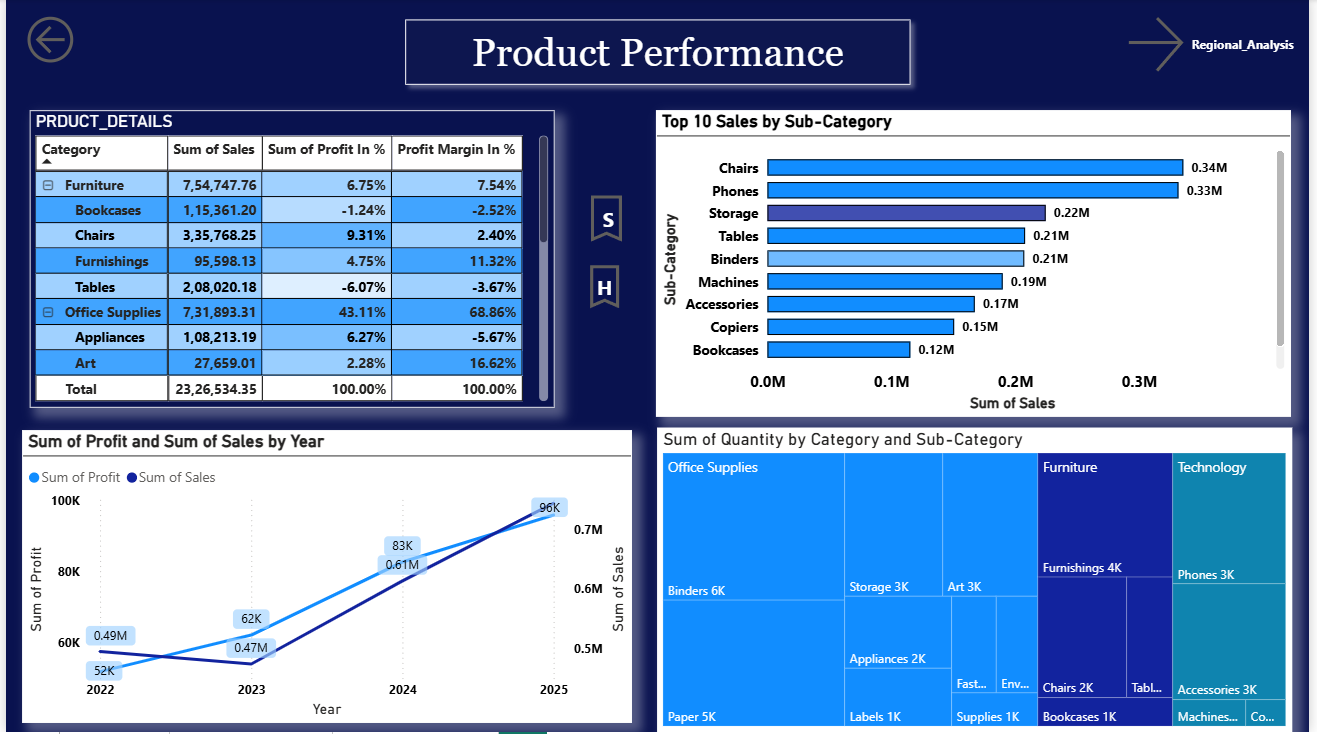

What the dashboard file says about the page in this screenshot:
{"tool":"powerbi","page":{"name":"Product_analysis","canvas":[1280,720],"ordinal":1},"visuals":[{"type":"shape","box":[382.8,11,514.1,82.2],"z":0},{"type":"actionButton","box":[14.7,11,89.6,57.7],"z":1000},{"type":"actionButton","box":[1094.8,11.2,173.8,67],"z":2000},{"type":"barChart","title":"Top 10 Sales by Sub-Category","fields":{"Y":["Sum(Orders.Sales)"],"Category":["Orders.Sub-Category"]},"box":[638,109.2,623.3,300.6],"z":3000},{"type":"pivotTable","title":"PRDUCT_DETAILS","fields":{"Rows":["Orders.Category","Orders.Sub-Category"],"Values":["Sum(Orders.Sales)","Sum(Orders.Profit)","Sum(Orders.Profit Margin)"]},"box":[23.3,109.2,515.3,292],"z":4000},{"type":"actionButton","box":[560.7,255.2,54,54],"z":6000},{"type":"actionButton","box":[560.7,186.5,61.4,57.7],"z":7000},{"type":"lineChart","fields":{"Y":["Sum(Orders.Profit)"],"Category":["DateTable.Year"],"Y2":["Sum(Orders.Sales)"]},"box":[16,423.3,598.8,287.1],"z":8000},{"type":"treemap","fields":{"Group":["Orders.Category"],"Details":["Orders.Sub-Category"],"Values":["Sum(Orders.Quantity)"]},"box":[639.3,420.9,623.3,289.6],"z":9000}]}

Visuals, with their boxes in screenshot pixels (x1, y1, x2, y2), scaled from the page's 1280x720 canvas onto the 1317x734 screenshot:
shape: [left=394, top=11, right=923, bottom=95]
actionButton: [left=15, top=11, right=107, bottom=70]
actionButton: [left=1126, top=11, right=1305, bottom=80]
"Top 10 Sales by Sub-Category" barChart: [left=656, top=111, right=1298, bottom=418]
"PRDUCT_DETAILS" pivotTable: [left=24, top=111, right=554, bottom=409]
actionButton: [left=577, top=260, right=632, bottom=315]
actionButton: [left=577, top=190, right=640, bottom=249]
lineChart - Sum(Orders.Profit) x DateTable.Year: [left=16, top=432, right=633, bottom=724]
treemap - Orders.Category x Orders.Sub-Category: [left=658, top=429, right=1299, bottom=724]
